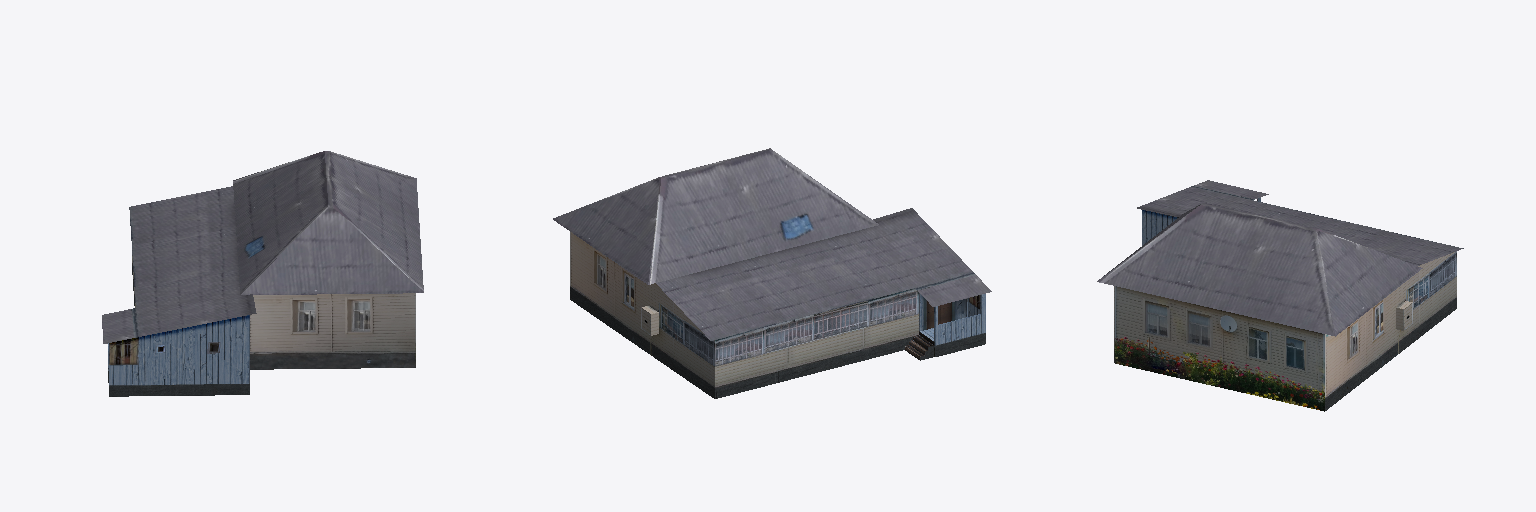
3 renders of one model, left to right at view 1: azimuth 30°, elevation 25°; view 2: azimuth 150°, elevation 25°; view 3: azimuth 270°, elevation 25°, orthographic.
Parts seen in each view (by area): view 1: Box001_Material_#50_0; view 2: Box001_Material_#50_0; view 3: Box001_Material_#50_0.
Boxes of the visible parts, x1,y1,x2,y2 form: Box001_Material_#50_0: [102, 151, 423, 396]; Box001_Material_#50_0: [553, 148, 991, 398]; Box001_Material_#50_0: [1097, 180, 1463, 411].
Bounding box in the file's own units: 23.65 × 8.4 × 19.98.
Materials: 1 (1 with a texture image).